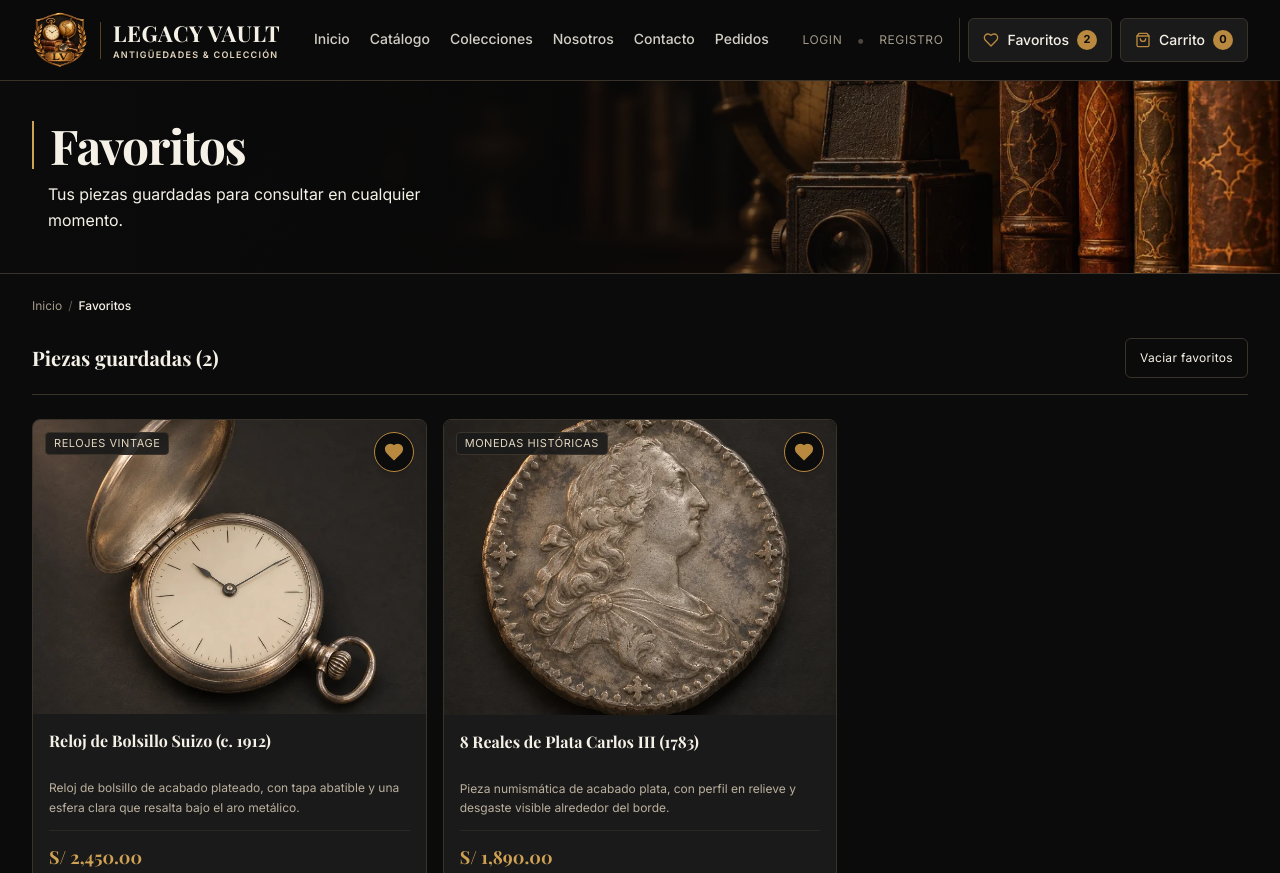
Test: favoritos en las rutas reales › quita favoritos desde la página de favoritos y vacía la lista
Expected: the heading "Piezas guardadas (2)" is shown, left=32, top=344, right=218, bottom=372
# Quitar un favorito mediante el botón de la tarjeta
Click the button named "Quitar de favoritos: Reloj de Bolsillo Suizo (c. 1912)".
click(394, 452)  # box left=374, top=432, right=414, bottom=472
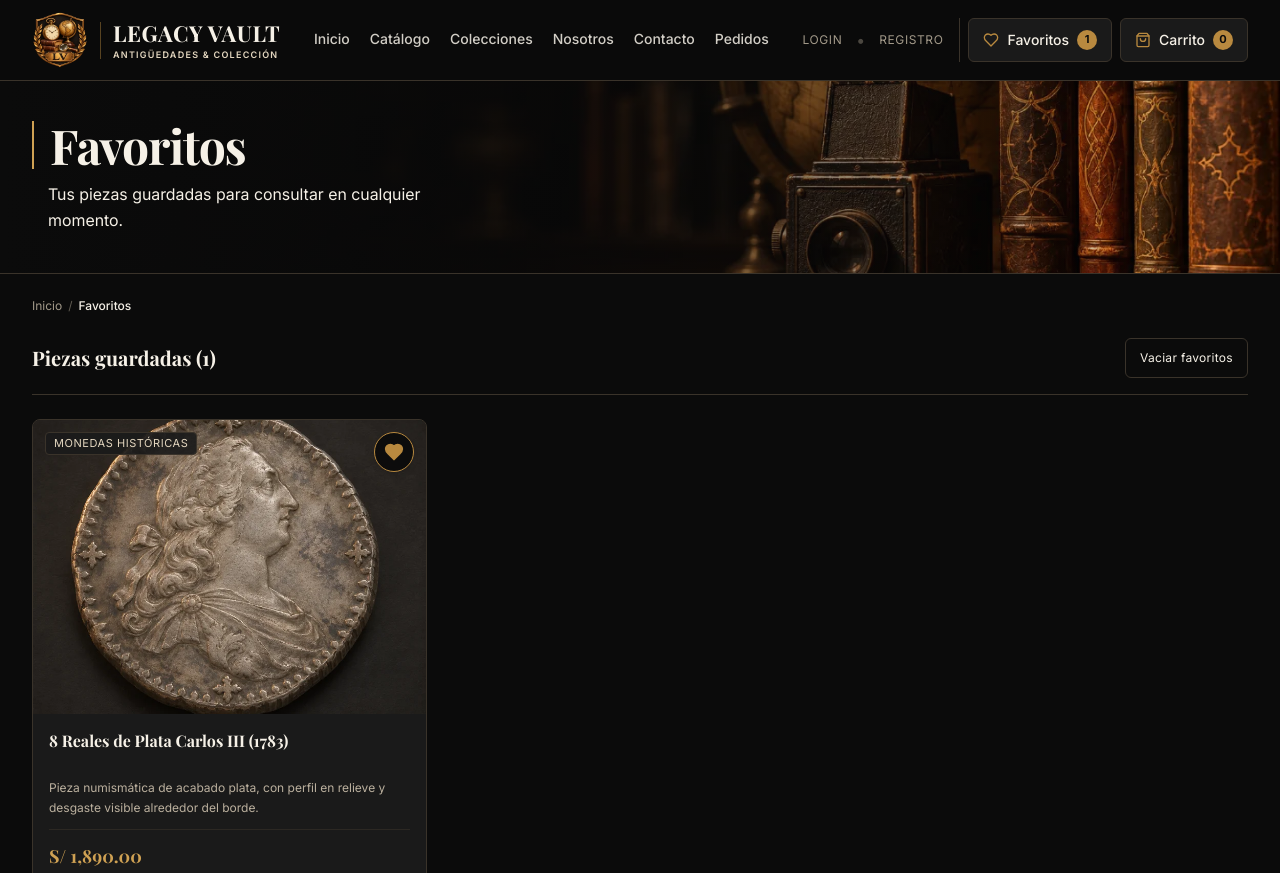
Expected: the link "Reloj de Bolsillo Suizo (c. 1912)" is not shown
Expected: the heading "Piezas guardadas (1)" is shown, left=32, top=344, right=216, bottom=372
# Vaciar favoritos completamente
Click the button "Vaciar favoritos".
click(1186, 358)  # box left=1125, top=338, right=1248, bottom=378
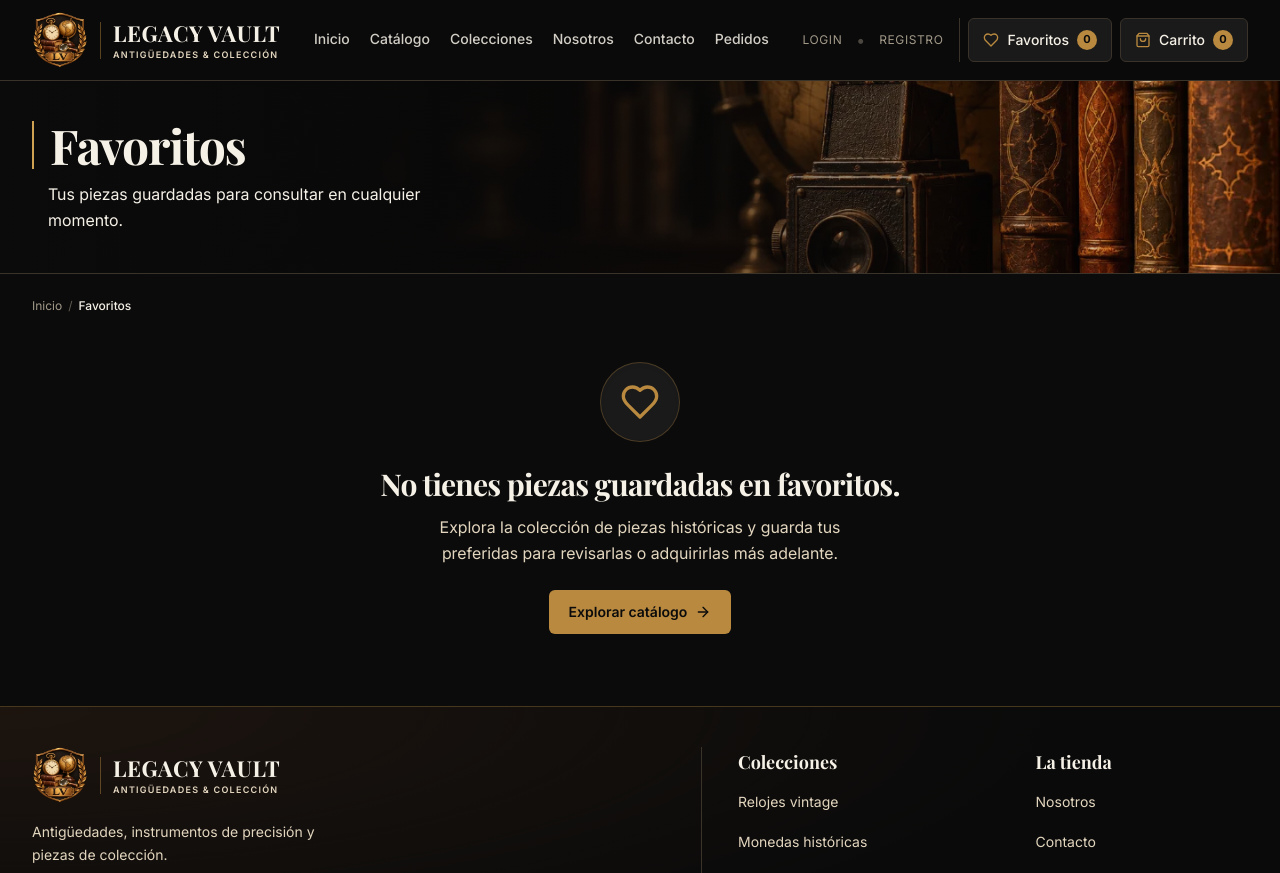
Expected: the heading "No tienes piezas guardadas en favoritos." is shown, left=380, top=466, right=900, bottom=502
